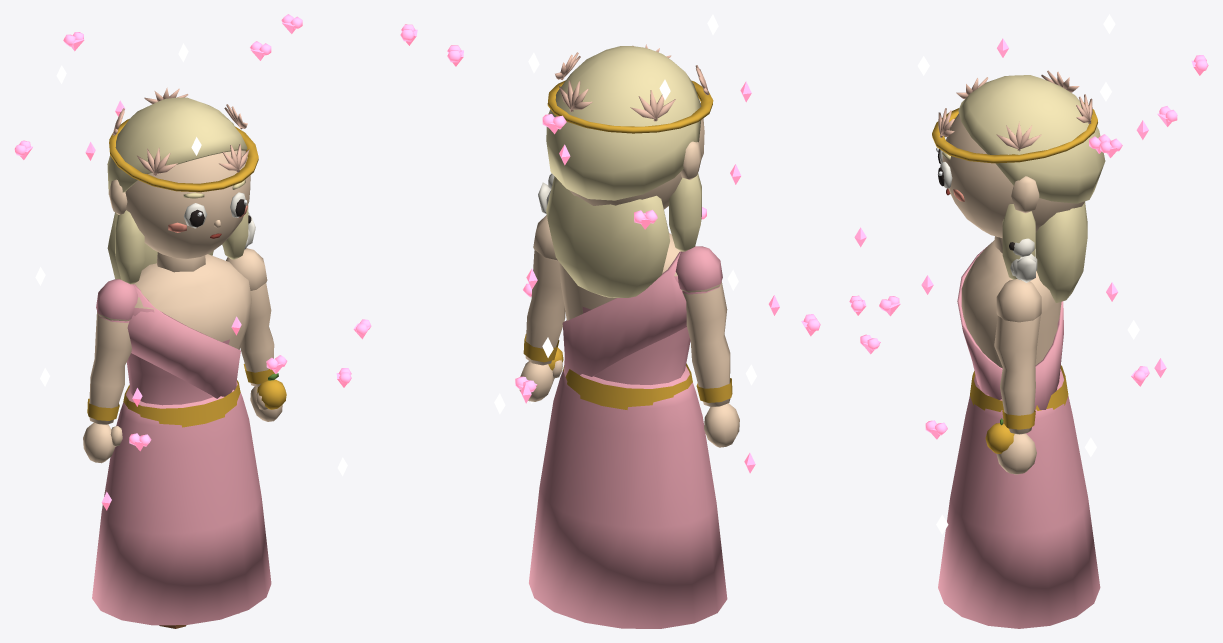
Rendered from aphrodite.glb.
The picture shows the model from 3 angles, left to right: view 1: azimuth 30°, elevation 25°; view 2: azimuth 150°, elevation 25°; view 3: azimuth 270°, elevation 25°; orthographic projection. The views are drawn at different scales.
Visible parts, largest first — view 1: huefte, rumpf, haare, kopf, armL, armR, kopfschmuck, vfx_herzen_0, itemR, vfx_herzen_1, vfx_glitzer_2, vfx_herzen_2; view 2: huefte, haare, rumpf, armL, armR, kopfschmuck, kopf, vfx_glitzer_2, vfx_glitzer_1, vfx_herzen_0, vfx_herzen_1; view 3: huefte, haare, rumpf, armR, kopf, kopfschmuck, begleiter, vfx_herzen_1, vfx_herzen_0, vfx_glitzer_0, vfx_herzen_2, itemR (+1 smaller).
Part boxes in pixels (x1,y1,x2,y2): huefte: (92, 381, 271, 625); rumpf: (123, 254, 251, 427); haare: (107, 97, 248, 284); kopf: (108, 150, 250, 272); armL: (83, 279, 137, 463); armR: (226, 248, 282, 421); kopfschmuck: (109, 87, 258, 192); vfx_herzen_0: (63, 32, 351, 451); itemR: (257, 373, 286, 409); vfx_herzen_1: (14, 14, 371, 339); vfx_glitzer_2: (40, 65, 142, 406); vfx_herzen_2: (250, 41, 287, 373); huefte: (529, 366, 727, 628); haare: (546, 46, 701, 297); rumpf: (559, 233, 692, 409); armL: (675, 246, 739, 447); armR: (519, 215, 565, 401); kopfschmuck: (547, 44, 713, 133); kopf: (569, 118, 704, 209); vfx_glitzer_2: (559, 79, 779, 385); vfx_glitzer_1: (526, 14, 755, 473); vfx_herzen_0: (523, 114, 820, 336); vfx_herzen_1: (400, 24, 657, 229); huefte: (938, 369, 1100, 628); haare: (958, 75, 1105, 302); rumpf: (957, 240, 1068, 411); armR: (994, 279, 1041, 474); kopf: (942, 113, 1084, 253); kopfschmuck: (932, 70, 1097, 163); begleiter: (1009, 238, 1037, 282); vfx_herzen_1: (860, 106, 1177, 354); vfx_herzen_0: (879, 55, 1208, 439); vfx_glitzer_0: (854, 82, 1166, 534); vfx_herzen_2: (849, 134, 1149, 386); itemR: (985, 418, 1014, 453).
Size of the model in its own units: 1.4 by 2.41 by 1.44.
